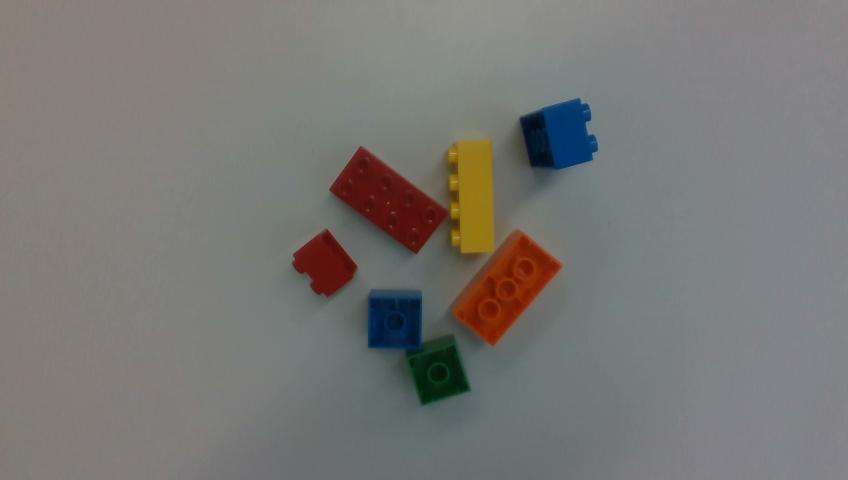2x2_blue: (368, 290, 420, 348)
2x2_green: (407, 335, 470, 405)
2x2_red: (293, 229, 357, 296)
4x2_blue: (520, 98, 597, 169)
4x2_orange: (451, 230, 561, 345)
4x2_red: (330, 147, 447, 253)
4x2_yellow: (447, 140, 494, 253)
